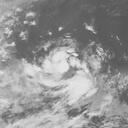cyclone: (35, 40, 96, 105)
